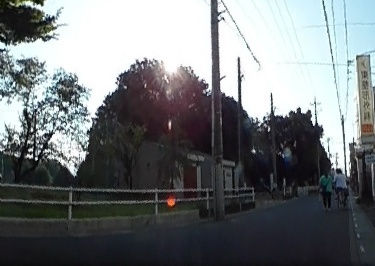person: (333, 166, 348, 202), (319, 168, 333, 206)
